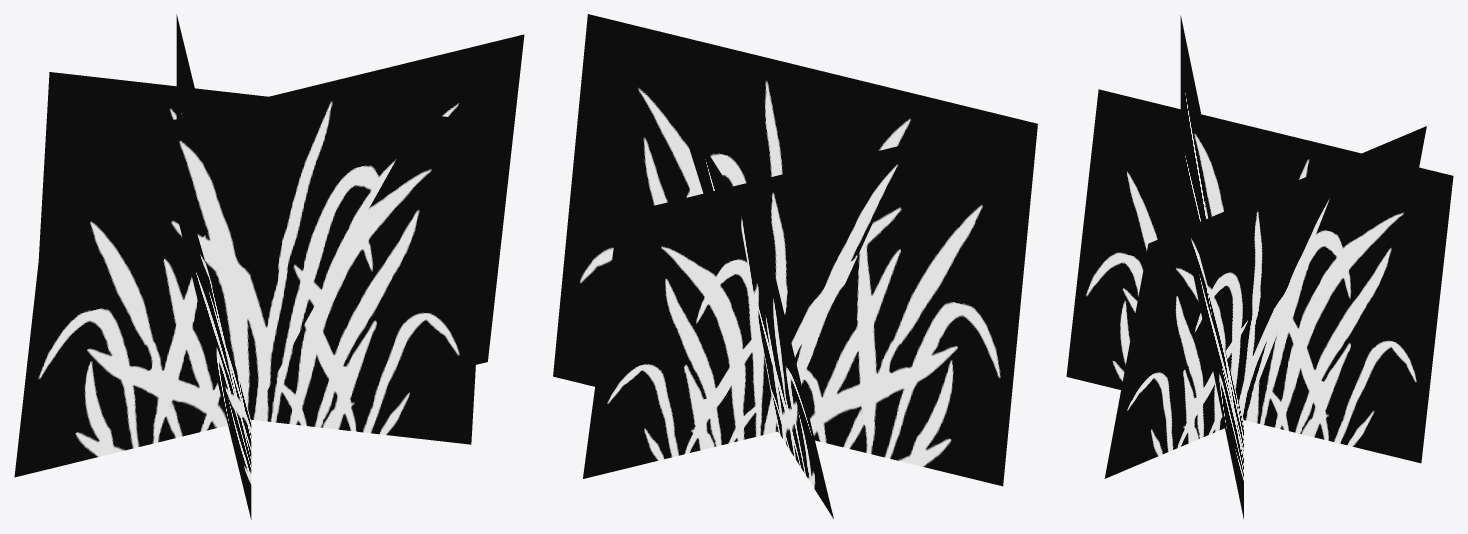
Rendered from Grass1.fbx.
3 views of the same model, side by side, from view 1: azimuth 30°, elevation 25°; view 2: azimuth 150°, elevation 25°; view 3: azimuth 270°, elevation 25° (orthographic). The views are drawn at different scales.
Visible parts, largest first — view 1: Grass1; view 2: Grass1; view 3: Grass1.
Boxes of the visible parts, box(x1,y1,x2,y2) form: Grass1: box(14, 14, 524, 519); Grass1: box(553, 14, 1037, 518); Grass1: box(1066, 15, 1453, 519).
Size of the model in its own units: 61.44 by 43.97 by 50.35.
Materials: 1 (1 with a texture image).
